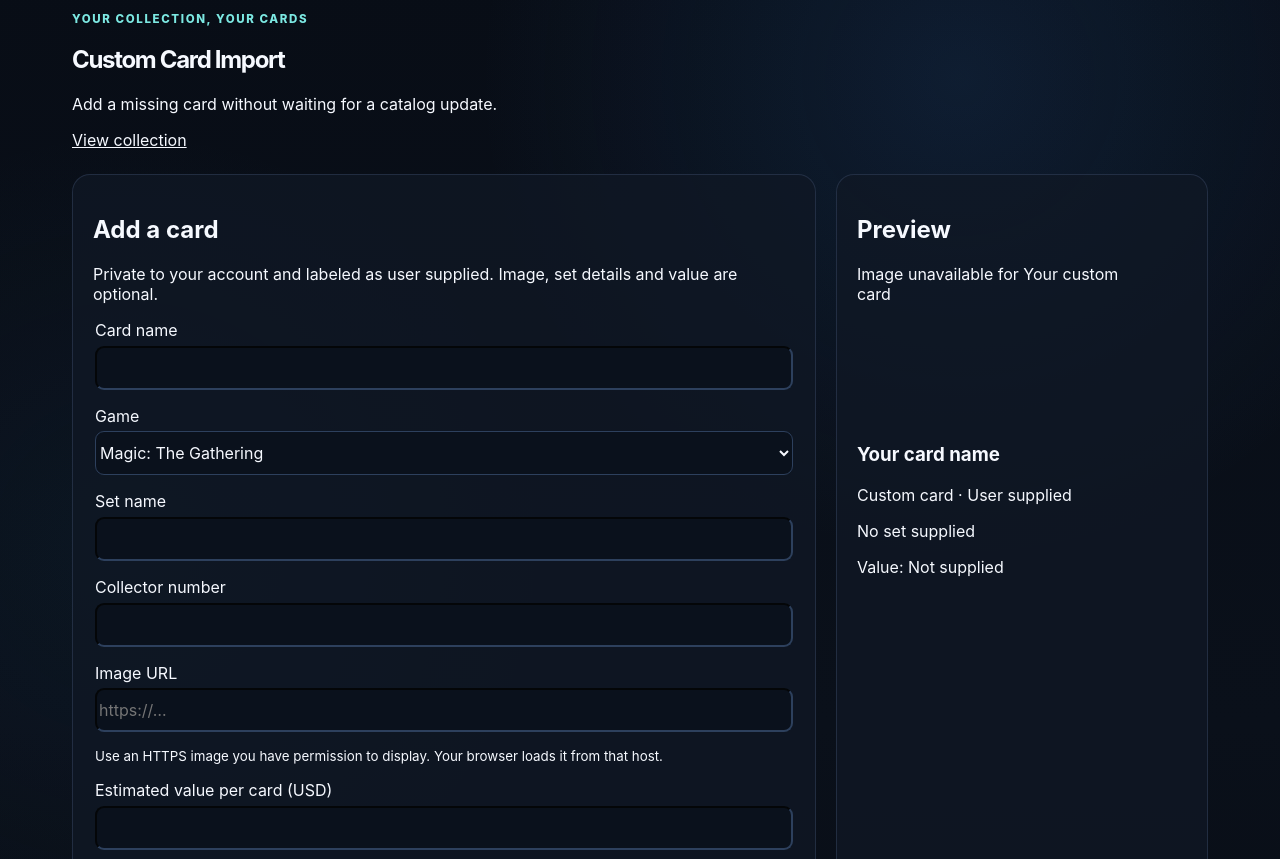
Test: creates a custom card using the dedicated page and reports success
The image size is (1280, 859).
Step 1. Type "My card" into the field labelled "Card name" → (444, 368), box [95,346,793,390]
(page scrolled)
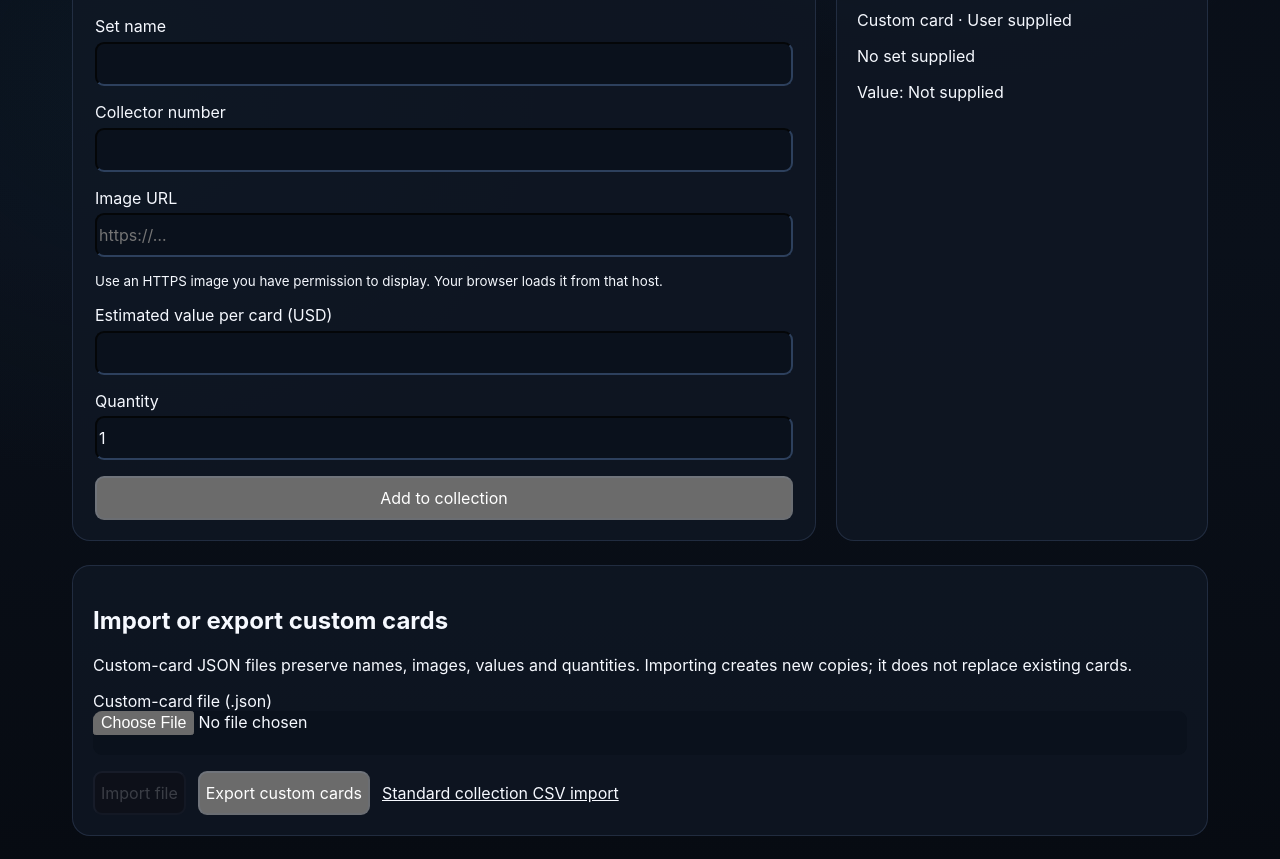
Step 2. Click the button "Add to collection" → (444, 498), box [95,476,793,520]
(page scrolled)
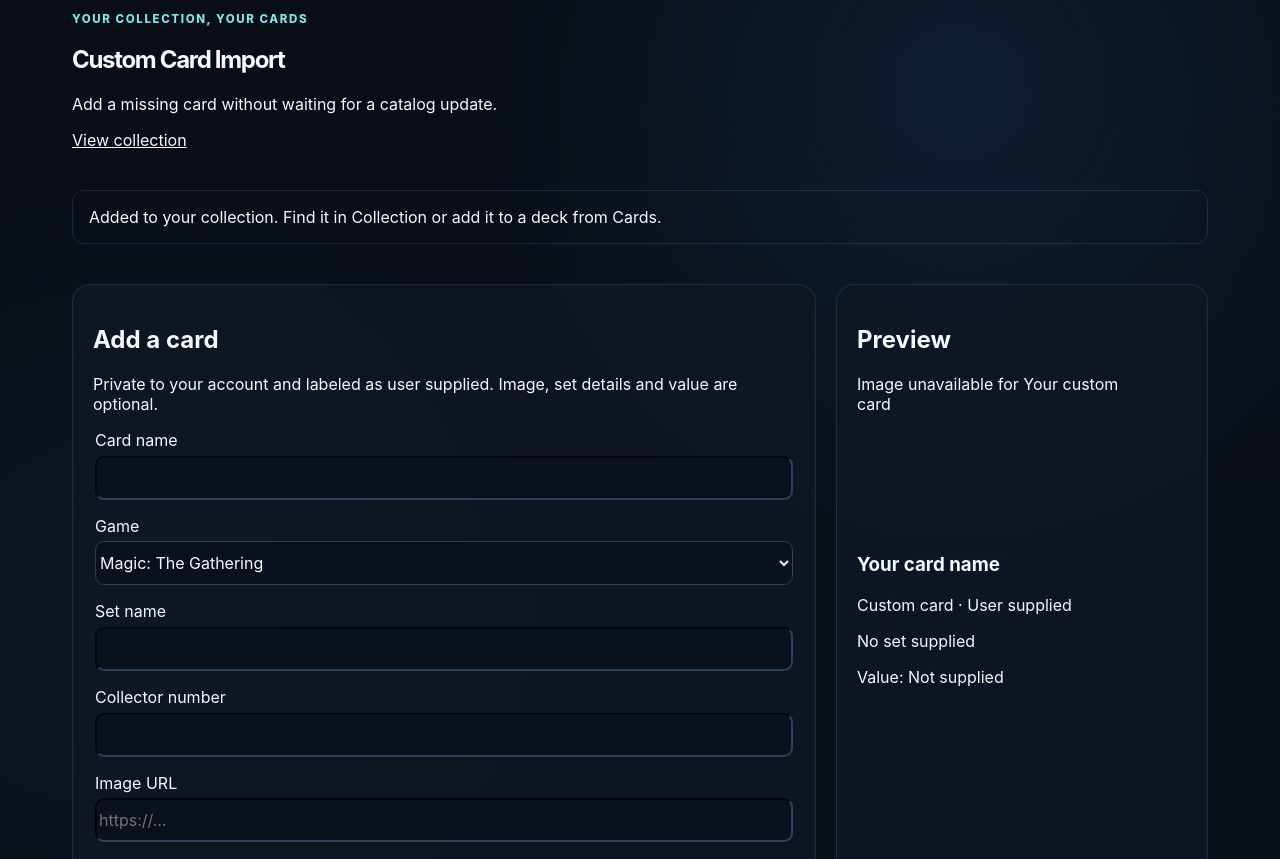
Now the message shows "Added to your collection", box [89,207,662,227]
